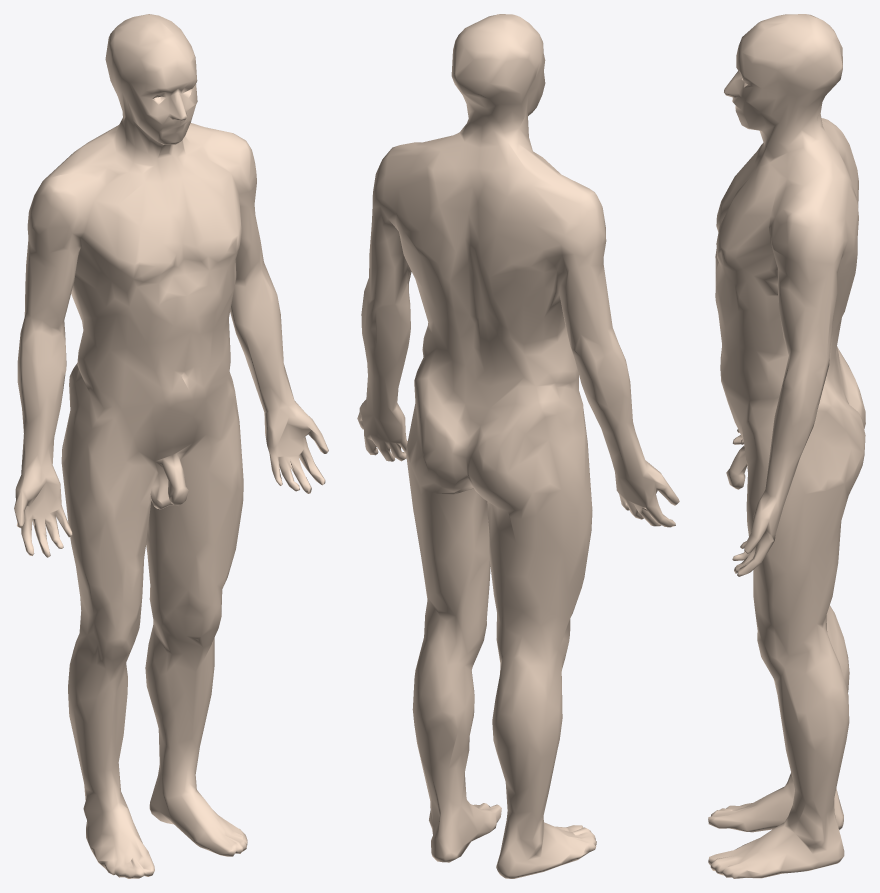
File: skin.glb
3 renders of one model, left to right at view 1: azimuth 30°, elevation 25°; view 2: azimuth 150°, elevation 25°; view 3: azimuth 270°, elevation 25°, orthographic. The views are drawn at different scales.
Parts seen in each view (by area): view 1: skin|0|skin; view 2: skin|0|skin; view 3: skin|0|skin.
Boxes of the visible parts, left/top/right/bottom form: skin|0|skin: left=14, top=14, right=328, bottom=878; skin|0|skin: left=357, top=14, right=679, bottom=878; skin|0|skin: left=708, top=14, right=865, bottom=878.
Bounding box in the file's own units: 0.6573 × 1.66 × 0.2847.
